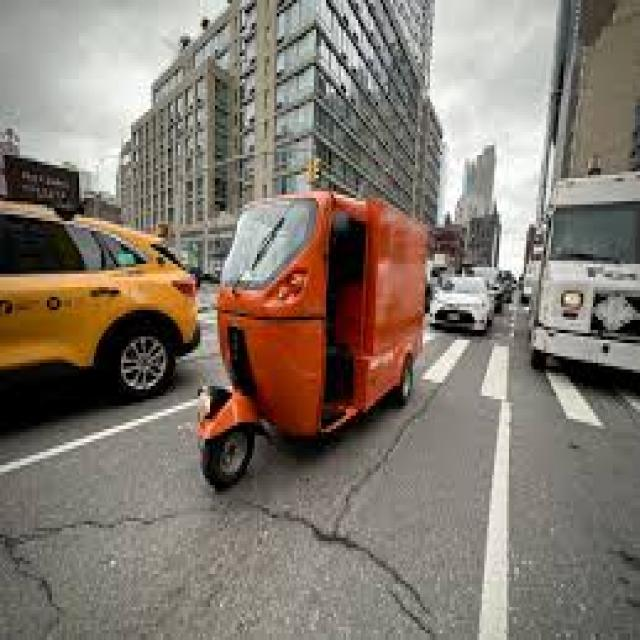tuktuk: (180, 64, 462, 516)
